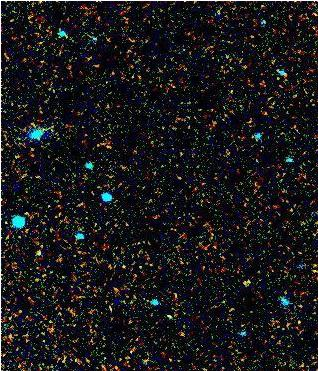star: (231, 266, 261, 296)
